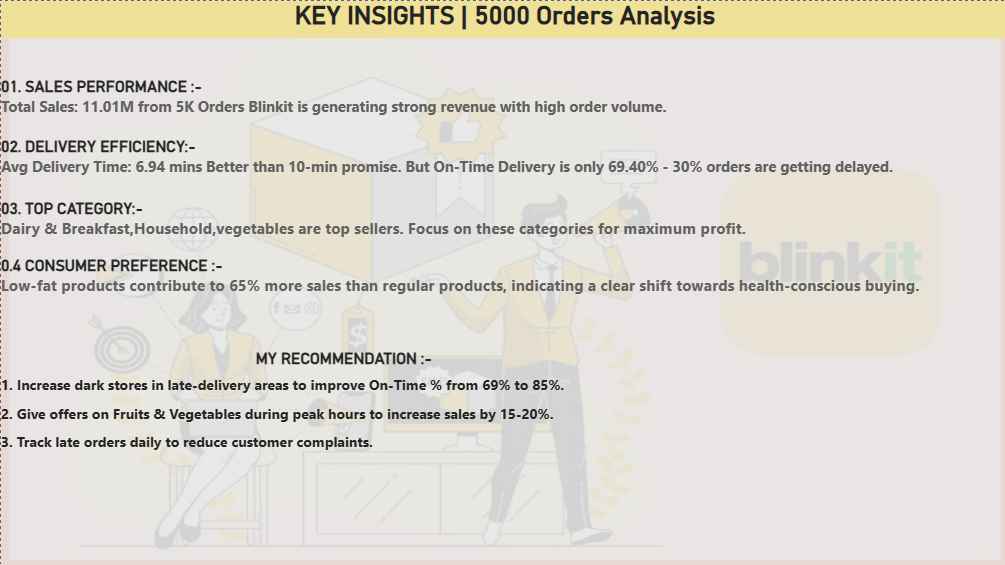

What the dashboard file says about the page in this screenshot:
{"tool":"powerbi","page":{"name":"Insight","canvas":[1920,1080],"ordinal":1},"visuals":[{"type":"textbox","title":"KEY INSIGHTS | 5000 Orders Analysis","box":[0,0,1920,74.3],"z":0},{"type":"textbox","title":"01. SALES PERFORMANCE :-","box":[0,144.6,1919.1,116.2],"z":1},{"type":"textbox","title":"02. DELIVERY EFFICIENCY:-","box":[0,260.8,1919.1,116.2],"z":2},{"type":"textbox","title":"03. TOP CATEGORY:-","box":[0,377,1919.1,127.6],"z":3},{"type":"textbox","title":"MY RECOMMENDATION :-","box":[0,663.3,1306.8,416.7],"z":4},{"type":"textbox","title":"0.4 CONSUMER PREFERENCE :-","box":[0,484.7,1920,150],"z":5}]}

Visuals, with their boxes in screenshot pixels (x1, y1, x2, y2), scaled from the page's 1920x1080 canvas onto the 1005x565 screenshot:
"KEY INSIGHTS | 5000 Orders Analysis" textbox: {"x1": 0, "y1": 0, "x2": 1004, "y2": 39}
"01. SALES PERFORMANCE :-" textbox: {"x1": 0, "y1": 76, "x2": 1004, "y2": 136}
"02. DELIVERY EFFICIENCY:-" textbox: {"x1": 0, "y1": 136, "x2": 1004, "y2": 197}
"03. TOP CATEGORY:-" textbox: {"x1": 0, "y1": 197, "x2": 1004, "y2": 264}
"MY RECOMMENDATION :-" textbox: {"x1": 0, "y1": 347, "x2": 684, "y2": 564}
"0.4 CONSUMER PREFERENCE :-" textbox: {"x1": 0, "y1": 254, "x2": 1004, "y2": 332}
